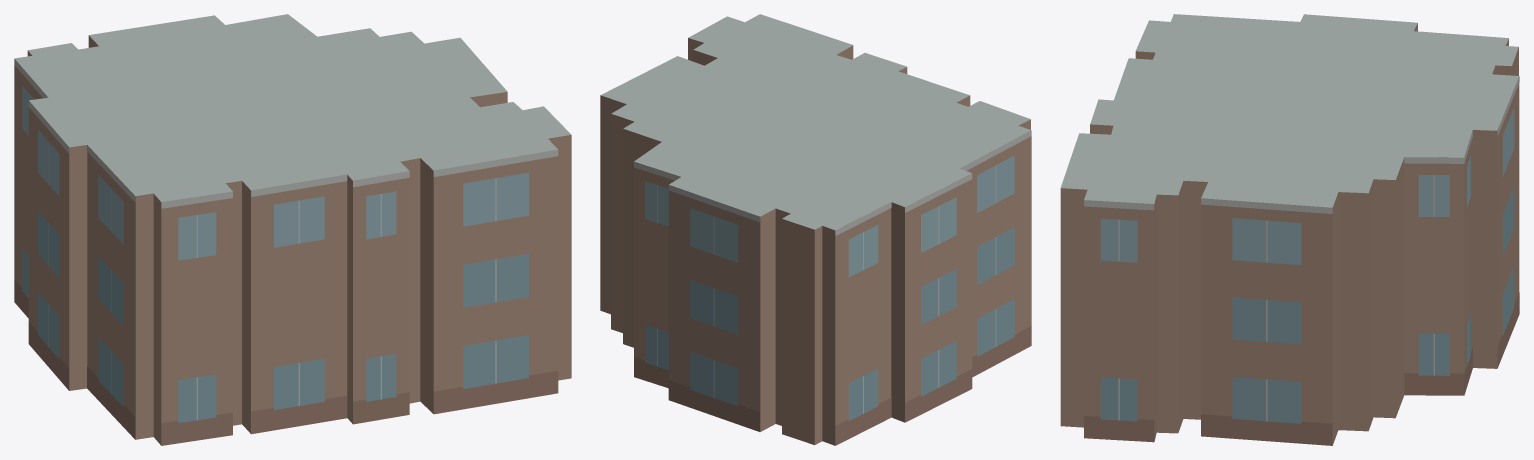
Rendered from survey-upis-32679887.glb.
3 views of the same model, side by side, from view 1: azimuth 30°, elevation 25°; view 2: azimuth 150°, elevation 25°; view 3: azimuth 270°, elevation 25° (orthographic). The views are drawn at different scales.
Parts seen in each view (by area): view 1: survey-upis-32679887.tmp; view 2: survey-upis-32679887.tmp; view 3: survey-upis-32679887.tmp.
Boxes of the visible parts, bbox=[...] form: survey-upis-32679887.tmp: bbox=[14, 14, 571, 445]; survey-upis-32679887.tmp: bbox=[600, 14, 1031, 445]; survey-upis-32679887.tmp: bbox=[1060, 14, 1519, 445].
Bounding box in the file's own units: 15.98 × 9.15 × 15.99.
